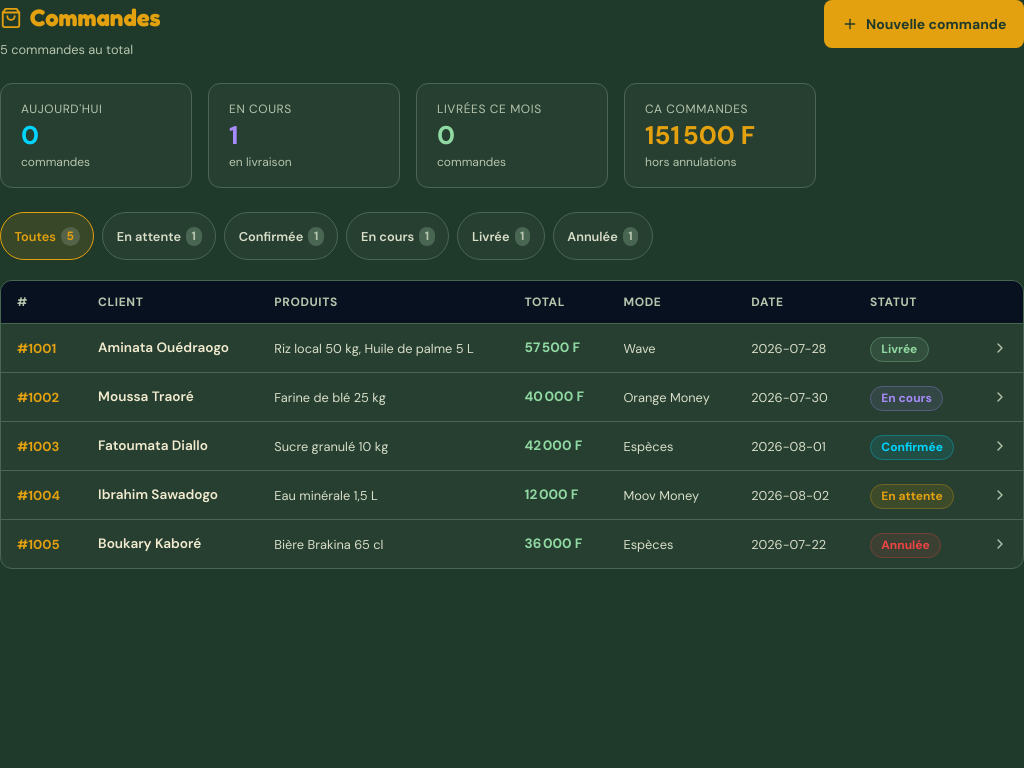
Test: CommandesPage › 20 — clic sur une ligne ouvre le modal avec le numéro de commande
Step 1. Click the text "Aminata Ouédraogo" → (170, 348), box [82,324,258,373]
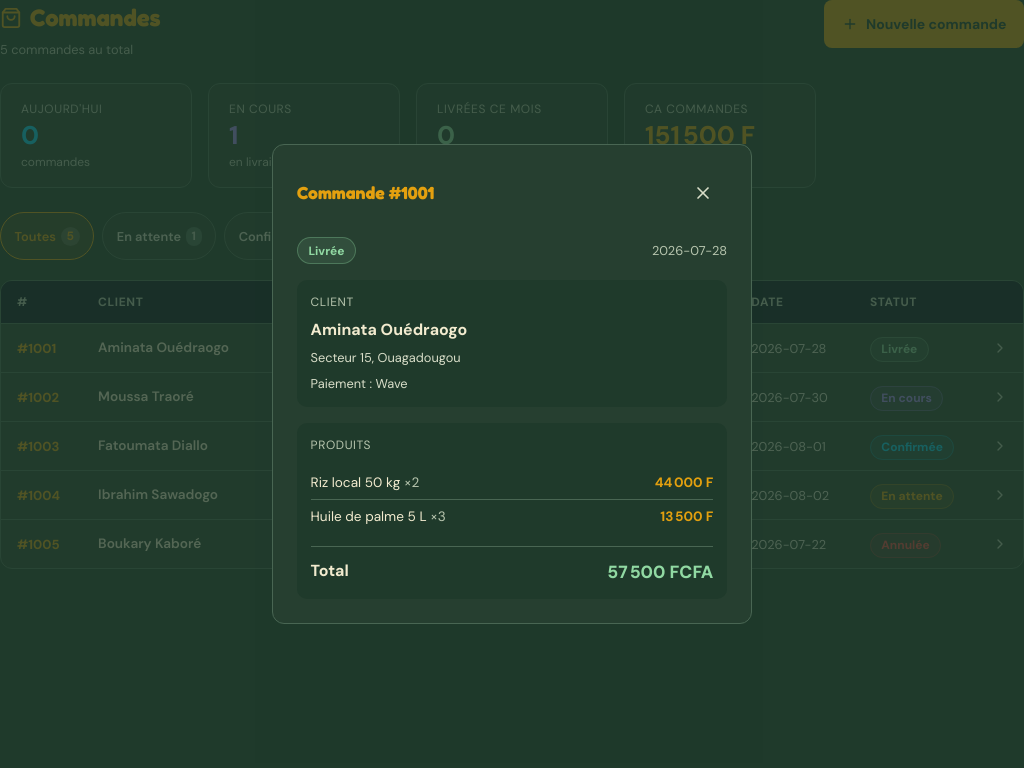
Check: the heading "Commande #1001" is shown, box [297,180,434,207]
